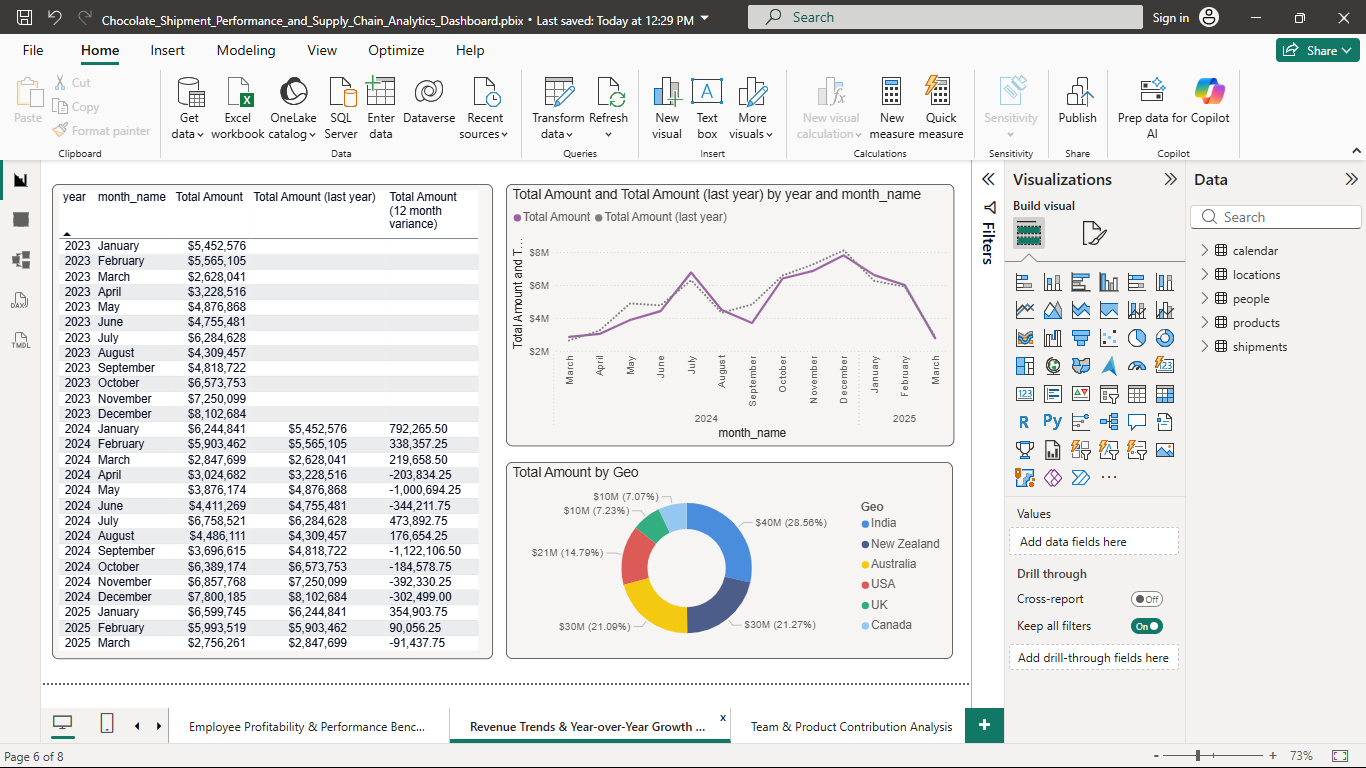

The dashboard page shown, as its layout file describes it:
{"tool":"powerbi","page":{"name":"Revenue Trends & Year-over-Year Growth Analysis","canvas":[1280,720],"ordinal":5},"visuals":[{"type":"tableEx","fields":{"Values":["calendar.year","calendar.month_name","shipments.Total Amount","shipments.Total Amount (last year)","shipments.Total Amount (12 month variance)"]},"box":[15.1,33,607,653.8],"z":0},{"type":"lineChart","fields":{"Category":["calendar.year","calendar.month_name"],"Y":["shipments.Total Amount","shipments.Total Amount (last year)"]},"box":[640,33,616.6,360.6],"z":1000},{"type":"donutChart","fields":{"Y":["shipments.Total Amount"],"Category":["locations.Geo"]},"box":[640,415.7,615.2,271.1],"z":2000}]}

Visuals, with their boxes on the page's 1280x720 design canvas (x1, y1, x2, y2). These are canvas units, not pixel positions in the 1366x768 screenshot, which may show the page scaled, cropped or inside an application window:
tableEx - calendar.year x calendar.month_name: <region>15, 33, 622, 687</region>
lineChart - calendar.year x calendar.month_name: <region>640, 33, 1257, 394</region>
donutChart - shipments.Total Amount x locations.Geo: <region>640, 416, 1255, 687</region>
